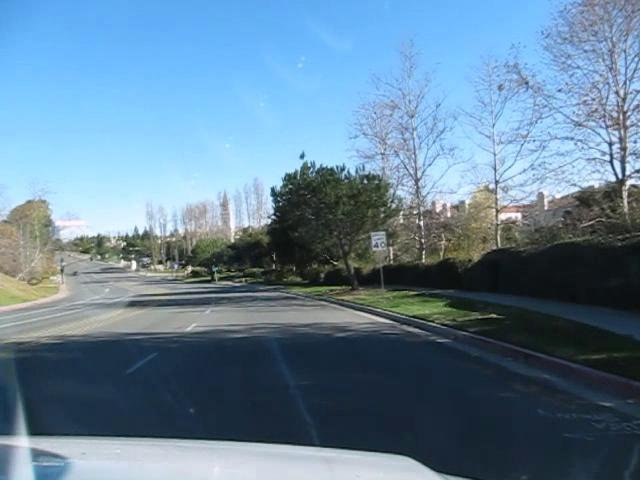speedLimit40: (369, 230, 388, 252)
